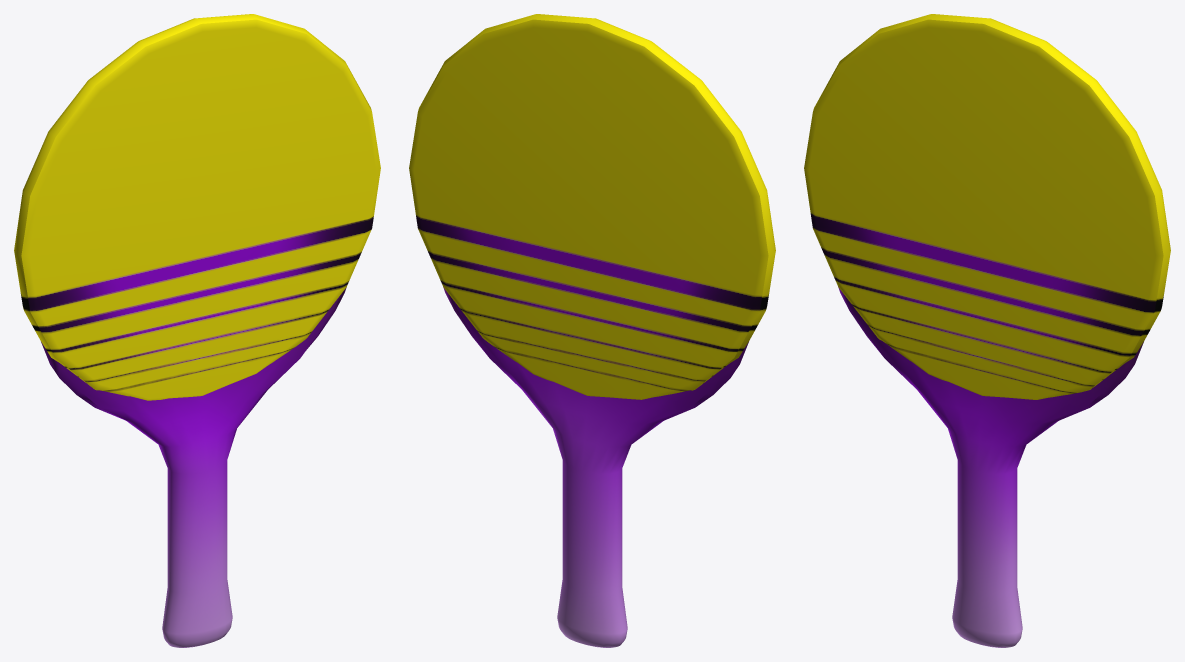
The model's file is Final_Paddle.fbx.
3 renders of one model, left to right at view 1: azimuth 30°, elevation 25°; view 2: azimuth 150°, elevation 25°; view 3: azimuth 330°, elevation 25°, orthographic.
Parts seen in each view (by area): view 1: Final_Paddle_1; view 2: Final_Paddle_1; view 3: Final_Paddle_1.
Boxes of the visible parts, x1,y1,x2,y2 form: Final_Paddle_1: (14, 14, 380, 647); Final_Paddle_1: (409, 14, 775, 647); Final_Paddle_1: (804, 14, 1170, 647).
Size of the model in its own units: 12.99 by 21.21 by 1.29.
Materials: 1 (1 with a texture image).
